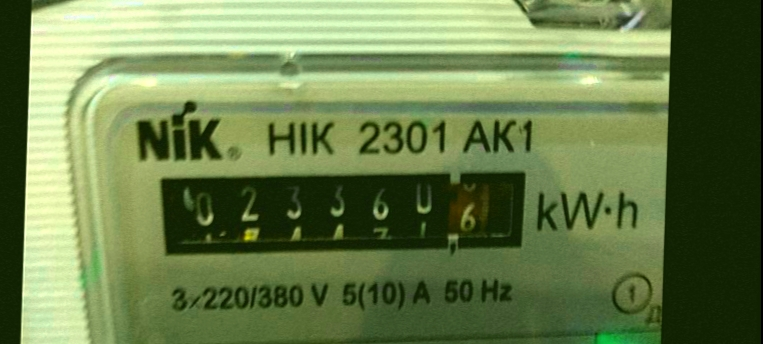0: (191, 186, 217, 228), (411, 178, 435, 216)
2: (235, 181, 262, 222)
3: (324, 180, 347, 219), (282, 181, 304, 221)
6: (366, 181, 393, 223), (457, 198, 480, 235)
screen: (135, 145, 540, 276)
